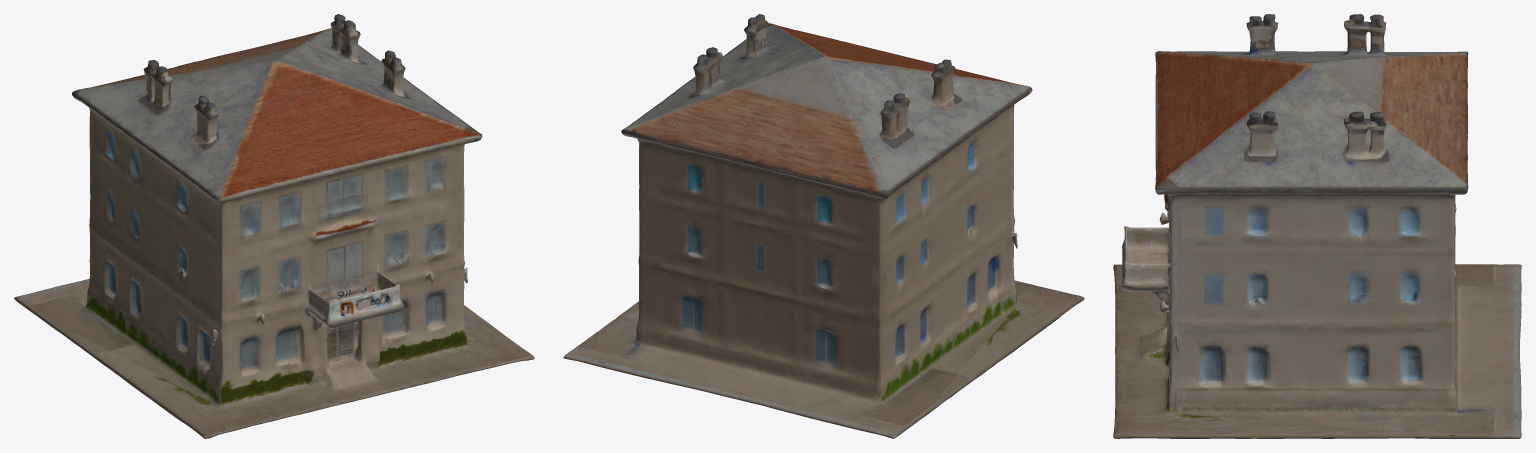
3 renders of one model, left to right at view 1: azimuth 30°, elevation 25°; view 2: azimuth 150°, elevation 25°; view 3: azimuth 270°, elevation 25°, orthographic. The views are drawn at different scales.
Parts seen in each view (by area): view 1: file1; view 2: file1; view 3: file1.
Boxes of the visible parts, x1,y1,x2,y2 form: file1: [14, 14, 534, 438]; file1: [563, 14, 1084, 438]; file1: [1113, 14, 1521, 438].
Size of the model in its own units: 2.01 by 1.58 by 2.01.
Materials: 1 (1 with a texture image).
